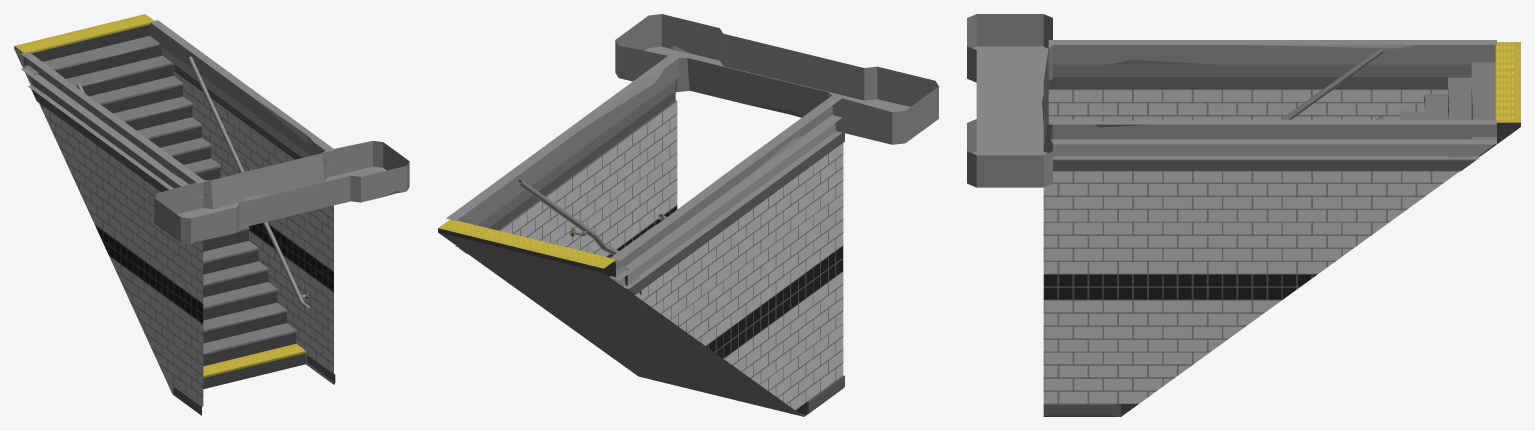
Rendered from SW_ENV_StreetEntrance_01_Lower.fbx.
The picture shows the model from 3 angles, left to right: view 1: azimuth 30°, elevation 25°; view 2: azimuth 150°, elevation 25°; view 3: azimuth 270°, elevation 25°; orthographic projection. The views are drawn at different scales.
Parts seen in each view (by area): view 1: SW_ENV_StreetEntrance_01_Lower; view 2: SW_ENV_StreetEntrance_01_Lower; view 3: SW_ENV_StreetEntrance_01_Lower.
Part boxes in pixels (x1=…): SW_ENV_StreetEntrance_01_Lower: x1=14, y1=14, x2=409, y2=415; SW_ENV_StreetEntrance_01_Lower: x1=438, y1=14, x2=938, y2=416; SW_ENV_StreetEntrance_01_Lower: x1=967, y1=14, x2=1520, y2=416.
Bounding box in the file's own units: 3.5 × 3.41 × 5.8.
